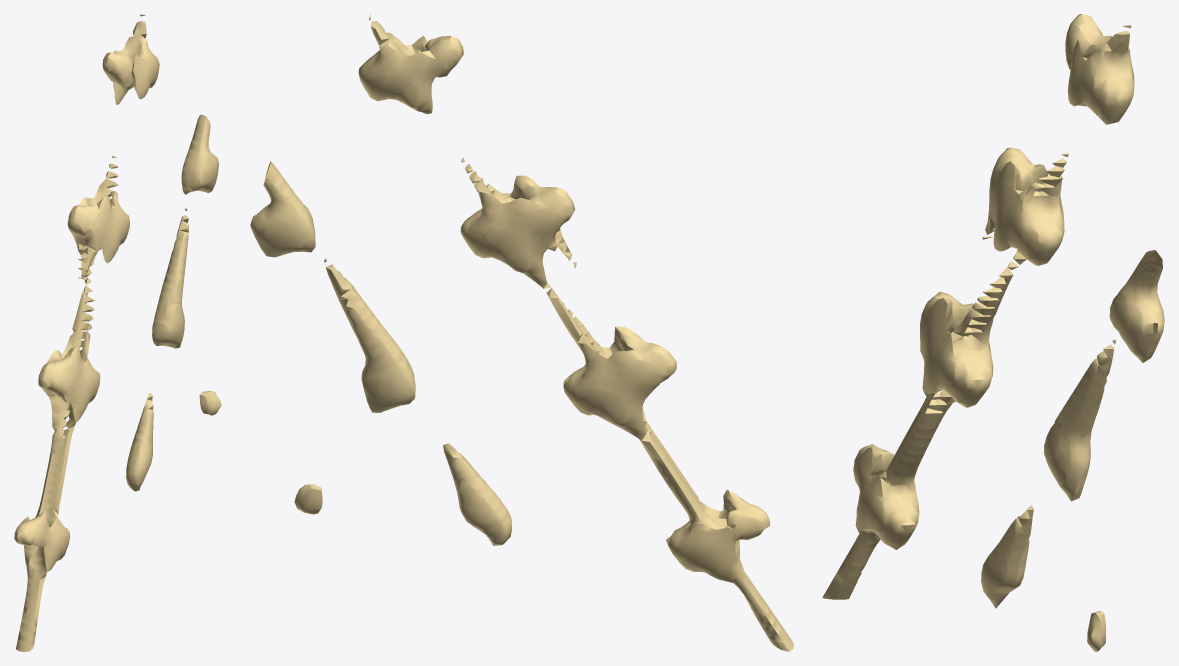
Rendered from detail.mollified.diff_stress.p99.glb.
3 renders of one model, left to right at view 1: azimuth 30°, elevation 25°; view 2: azimuth 150°, elevation 25°; view 3: azimuth 270°, elevation 25°, orthographic. The views are drawn at different scales.
Parts seen in each view (by area): view 1: detail.mollified.diff_stress.p99; view 2: detail.mollified.diff_stress.p99; view 3: detail.mollified.diff_stress.p99.
Boxes of the visible parts, left/top/right/bottom form: detail.mollified.diff_stress.p99: left=14, top=14, right=221, bottom=651; detail.mollified.diff_stress.p99: left=250, top=14, right=793, bottom=651; detail.mollified.diff_stress.p99: left=822, top=14, right=1164, bottom=651.
Size of the model in its own units: 1.11 by 1.75 by 0.7449.
